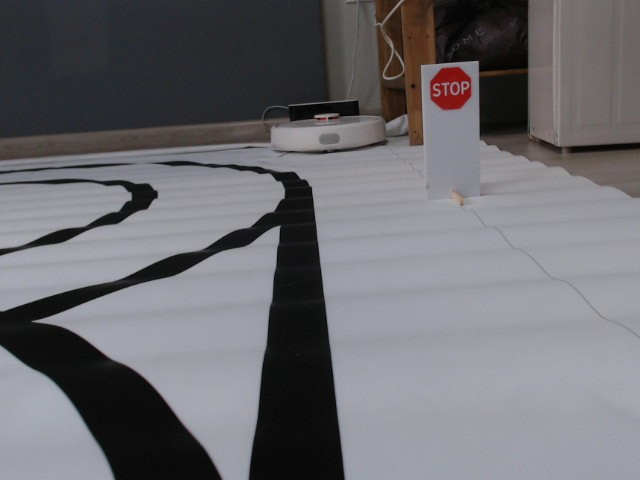Stop: (428, 65, 472, 112)
